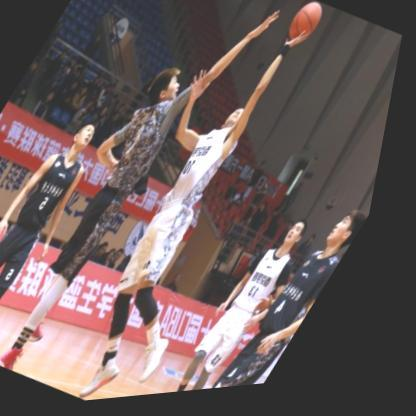basketball: (281, 2, 333, 56)
